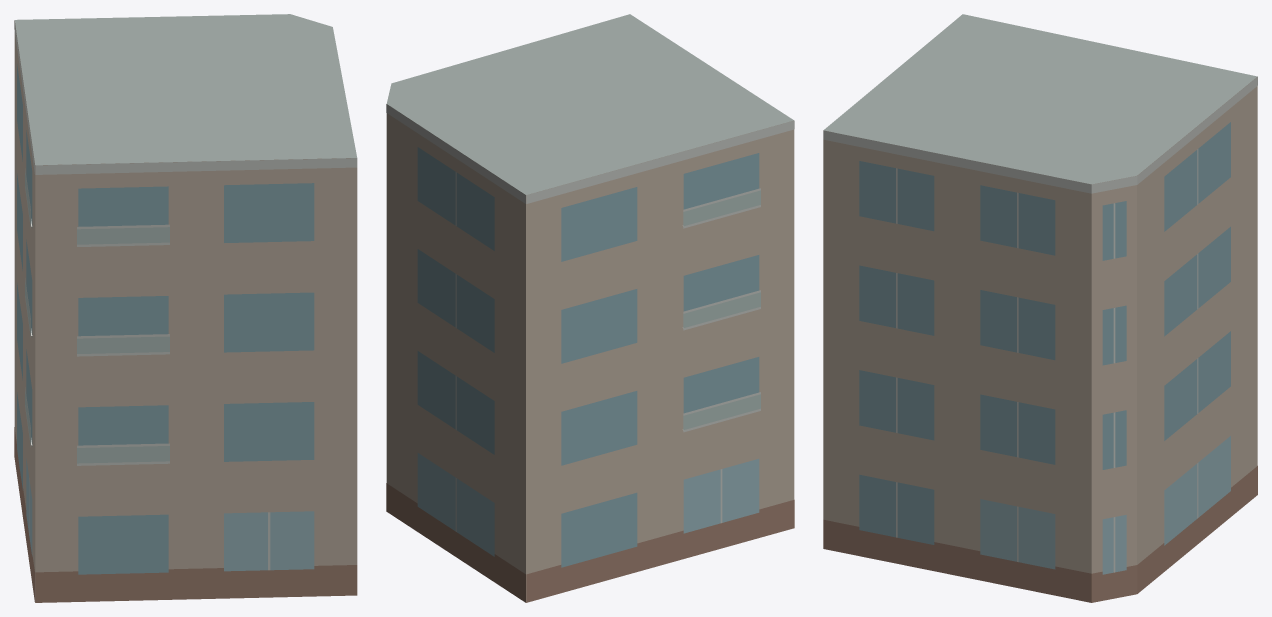
File: survey-upis-32733048.glb
The picture shows the model from 3 angles, left to right: view 1: azimuth 30°, elevation 25°; view 2: azimuth 150°, elevation 25°; view 3: azimuth 270°, elevation 25°; orthographic projection. The views are drawn at different scales.
Parts seen in each view (by area): view 1: survey-upis-32733048.tmp; view 2: survey-upis-32733048.tmp; view 3: survey-upis-32733048.tmp.
Boxes of the visible parts, x1,y1,x2,y2 form: survey-upis-32733048.tmp: [14, 14, 357, 602]; survey-upis-32733048.tmp: [386, 14, 794, 602]; survey-upis-32733048.tmp: [823, 14, 1257, 602].
Bounding box in the file's own units: 9.62 × 11 × 10.36.
